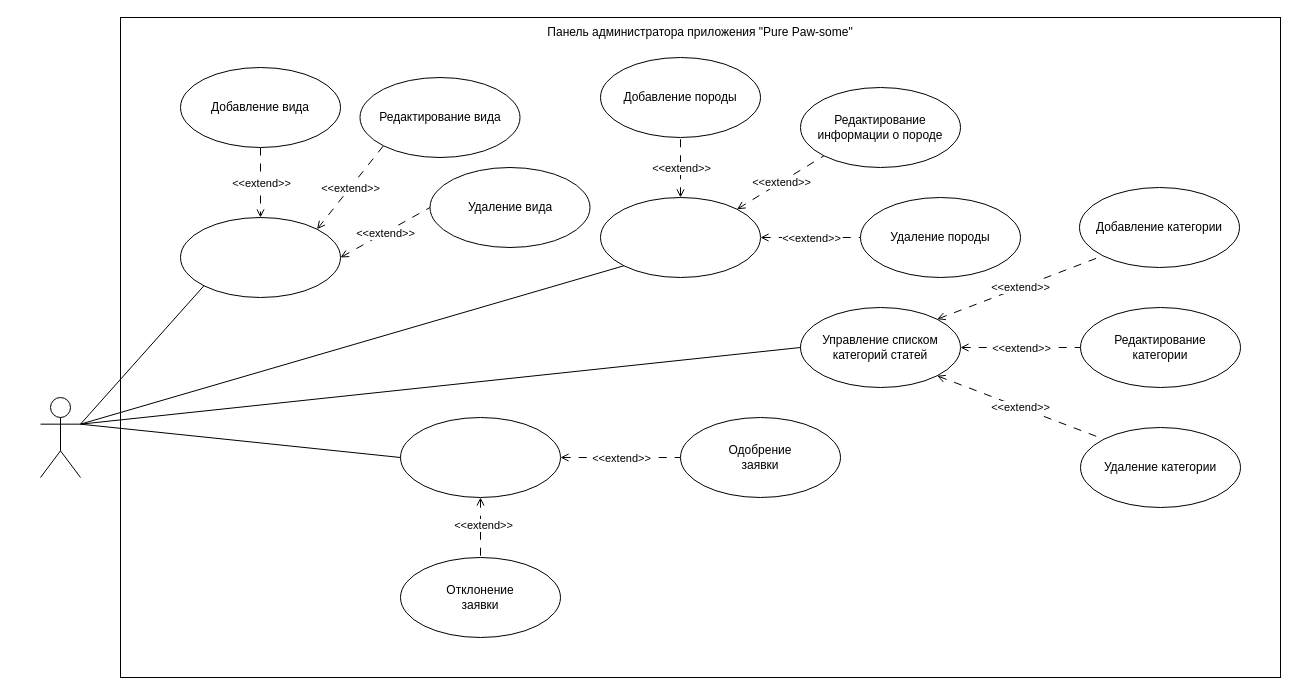
Image size: 1298x695. Some labels were removed from this diagram. The centre of each missing label's shape, as x and y in pixels:
"Администратор" goes at point 60,437.
"Модерация заявок на добавление новой породы" goes at point 480,457.
"Управление списком видов животных" goes at point 260,257.
"Управление списком пород животных" goes at point 680,237.
